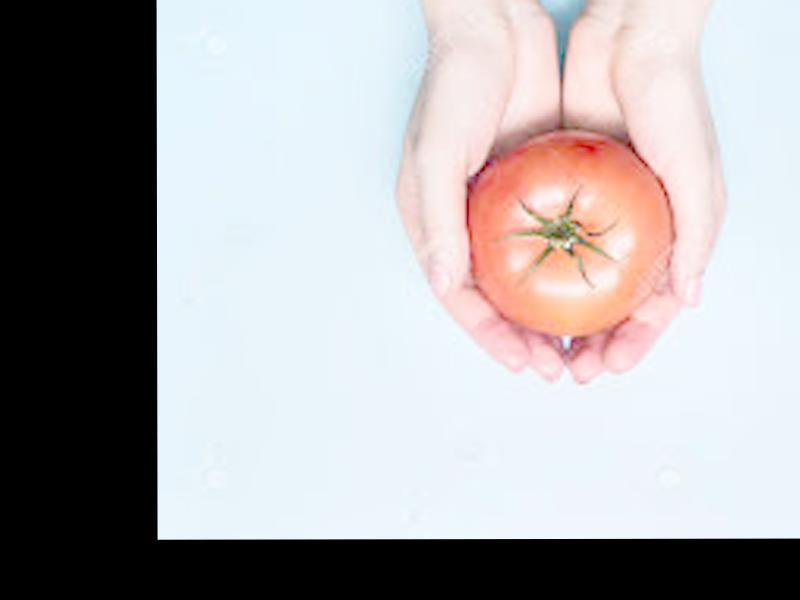Tomato: (461, 132, 673, 335)
